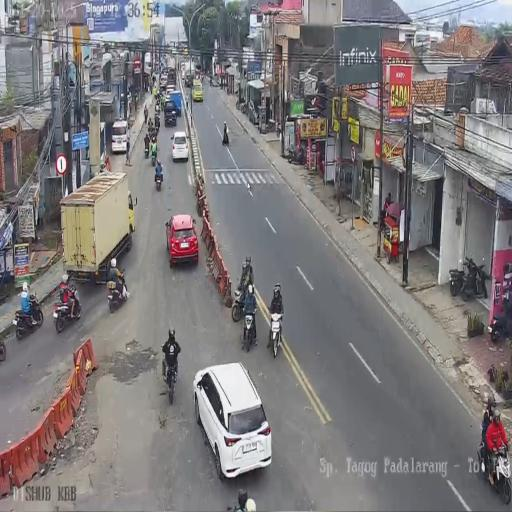3: (60, 169, 134, 286), (182, 60, 195, 85), (166, 68, 176, 90), (144, 52, 151, 74), (168, 55, 177, 72)
car: (193, 360, 272, 478), (166, 212, 199, 266), (111, 119, 130, 154), (172, 130, 190, 162), (246, 98, 259, 124), (164, 102, 177, 126), (120, 90, 131, 114), (192, 79, 203, 102), (164, 88, 174, 106), (160, 74, 168, 89), (152, 71, 159, 84)
truck: (480, 436, 512, 506), (14, 292, 44, 339), (54, 285, 82, 332), (161, 345, 179, 403), (108, 273, 128, 313), (231, 281, 249, 322), (242, 307, 258, 353), (449, 259, 468, 297), (269, 310, 283, 357), (488, 309, 506, 342), (286, 142, 305, 166), (154, 167, 163, 190), (151, 146, 157, 166), (144, 139, 150, 158), (222, 129, 229, 145), (154, 113, 160, 131), (241, 100, 248, 115), (276, 120, 281, 138), (155, 100, 160, 116), (144, 105, 148, 125), (209, 75, 213, 86), (199, 73, 203, 84)
